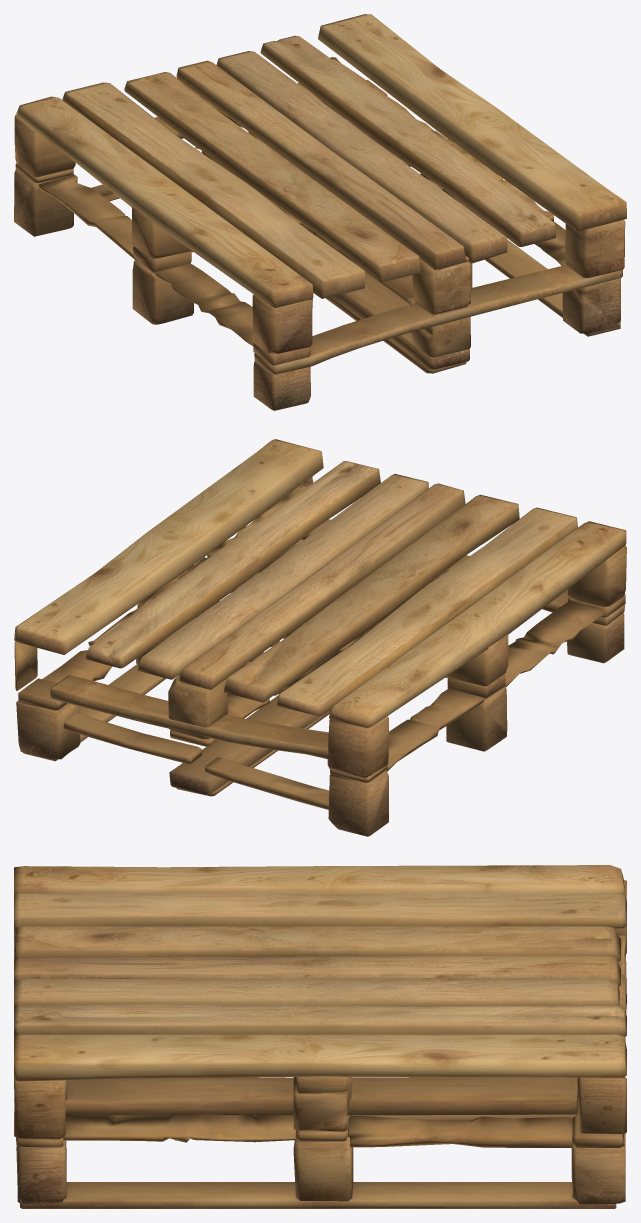
File: pallet.glb
The picture shows the model from 3 angles, top to bottom: view 1: azimuth 30°, elevation 25°; view 2: azimuth 150°, elevation 25°; view 3: azimuth 270°, elevation 25°; orthographic projection. The views are drawn at different scales.
Parts seen in each view (by area): view 1: tripo_node_2fb5b998-a03d-4295-a0ee-452c288af1c6; view 2: tripo_node_2fb5b998-a03d-4295-a0ee-452c288af1c6; view 3: tripo_node_2fb5b998-a03d-4295-a0ee-452c288af1c6.
Part boxes in pixels (bbox=[...]): tripo_node_2fb5b998-a03d-4295-a0ee-452c288af1c6: bbox=[14, 14, 626, 410]; tripo_node_2fb5b998-a03d-4295-a0ee-452c288af1c6: bbox=[14, 439, 626, 836]; tripo_node_2fb5b998-a03d-4295-a0ee-452c288af1c6: bbox=[14, 865, 626, 1208].
Bounding box in the file's own units: 0.7871 × 0.2715 × 0.998.
1 material, 1 textured.
